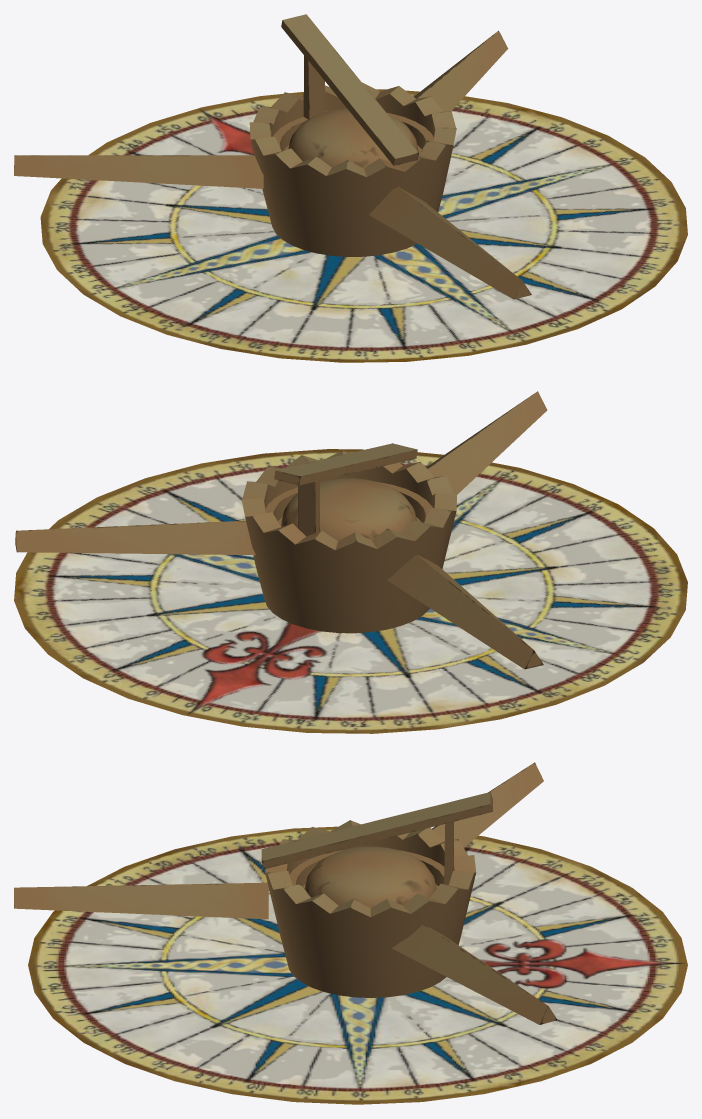
File: Compas part 3.fbx
The picture shows the model from 3 angles, top to bottom: view 1: azimuth 30°, elevation 25°; view 2: azimuth 150°, elevation 25°; view 3: azimuth 270°, elevation 25°; orthographic projection. The views are drawn at different scales.
Visible parts, largest first — view 1: Cube.006, Cube.002, Cylinder.003, Cube.003; view 2: Cube.006, Cube.002, Cylinder.003, Cube.003; view 3: Cube.006, Cube.002, Cylinder.003, Cube.003.
Boxes of the visible parts, x1=… form: Cube.006: x1=40, y1=89, x2=687, y2=362; Cube.002: x1=249, y1=82, x2=456, y2=256; Cylinder.003: x1=14, y1=30, x2=531, y2=299; Cube.003: x1=281, y1=14, x2=418, y2=165; Cube.006: x1=14, y1=449, x2=687, y2=733; Cube.002: x1=241, y1=450, x2=457, y2=633; Cylinder.003: x1=15, y1=391, x2=547, y2=669; Cube.003: x1=274, y1=443, x2=417, y2=536; Cube.006: x1=28, y1=826, x2=687, y2=1104; Cube.002: x1=265, y1=820, x2=476, y2=997; Cylinder.003: x1=14, y1=762, x2=557, y2=1024; Cube.003: x1=261, y1=792, x2=492, y2=885.
Size of the model in its own units: 148 by 42.47 by 151.
Materials: 4 (4 with a texture image).
